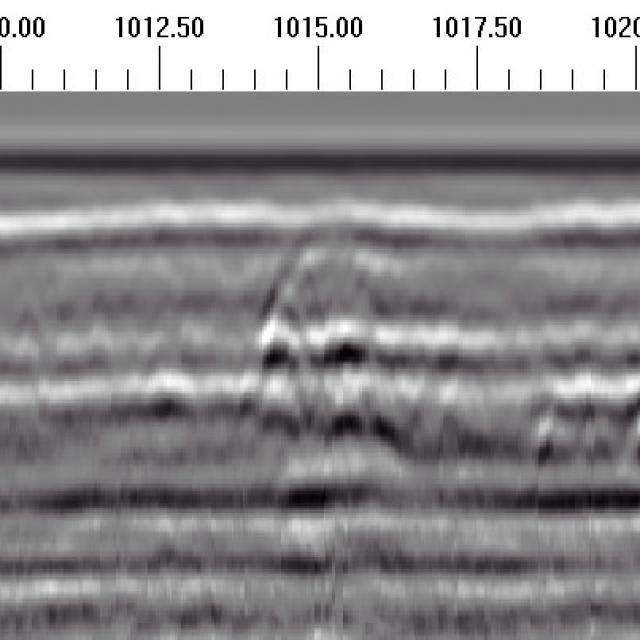loose: (244, 280, 449, 455)
